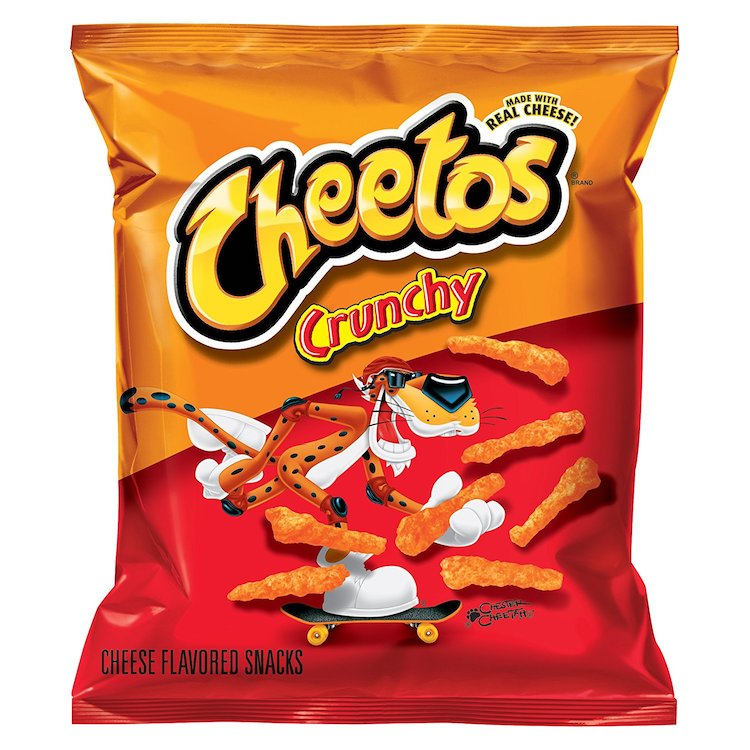cheetos: (67, 25, 680, 726)
